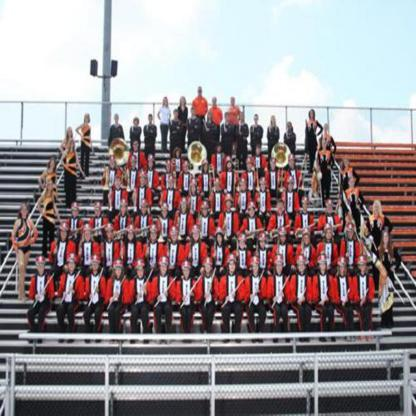face: (304, 235, 311, 247), (277, 263, 283, 275), (229, 263, 236, 273), (70, 262, 77, 271), (299, 263, 306, 272), (321, 265, 328, 274), (85, 232, 91, 242), (162, 266, 168, 276), (240, 240, 246, 250), (288, 183, 294, 193), (151, 232, 158, 240), (340, 266, 347, 274), (110, 158, 115, 169), (62, 231, 68, 240), (129, 232, 135, 241), (172, 234, 178, 243), (184, 270, 190, 279), (194, 232, 200, 241), (217, 236, 223, 245), (139, 270, 145, 279), (261, 183, 267, 192), (253, 265, 259, 274), (134, 141, 139, 151), (182, 204, 187, 214), (256, 147, 261, 157), (327, 230, 332, 240), (38, 265, 44, 273), (140, 177, 146, 185), (93, 263, 99, 271), (116, 269, 122, 277), (162, 210, 168, 218), (206, 265, 212, 273), (169, 181, 175, 189), (203, 209, 209, 217), (227, 201, 233, 209), (247, 164, 253, 172), (250, 210, 256, 218), (278, 205, 284, 213), (261, 241, 267, 249), (281, 236, 287, 244), (348, 231, 354, 239), (360, 263, 366, 271), (132, 161, 137, 170), (122, 205, 127, 214), (272, 163, 277, 172), (384, 235, 389, 244), (323, 141, 328, 150), (107, 232, 113, 239), (149, 162, 154, 170), (74, 211, 79, 219), (142, 207, 147, 215), (184, 166, 189, 174), (192, 188, 197, 196), (228, 162, 233, 170), (241, 185, 246, 193), (213, 99, 218, 107), (290, 161, 295, 169), (375, 205, 380, 213), (116, 181, 120, 190), (48, 183, 53, 190), (96, 210, 101, 217), (204, 165, 209, 172), (51, 162, 55, 170), (149, 117, 153, 125), (24, 209, 28, 217), (216, 184, 220, 192), (192, 110, 196, 118), (226, 115, 230, 123), (255, 116, 259, 124), (68, 131, 73, 137), (303, 204, 308, 210), (328, 207, 333, 213), (344, 161, 349, 167), (177, 152, 181, 159), (199, 89, 203, 96), (241, 114, 245, 121), (164, 100, 168, 106), (175, 113, 179, 119), (167, 166, 171, 172), (218, 146, 222, 152), (182, 100, 186, 106), (208, 114, 212, 120), (232, 100, 236, 106), (272, 118, 276, 124), (350, 181, 354, 187), (71, 143, 74, 149), (289, 125, 292, 131), (311, 112, 314, 118), (86, 118, 89, 123), (116, 117, 119, 122), (135, 122, 138, 127), (325, 127, 328, 132)
